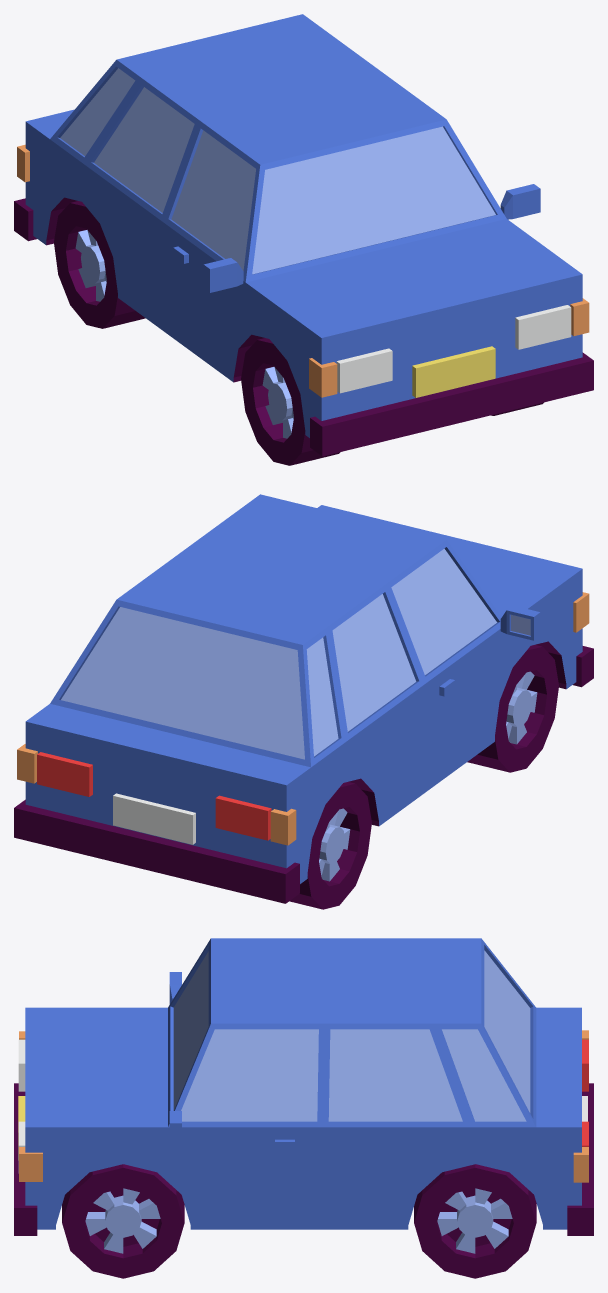
The model's file is car6.glb.
3 renders of one model, top to bottom at view 1: azimuth 30°, elevation 25°; view 2: azimuth 150°, elevation 25°; view 3: azimuth 270°, elevation 25°, orthographic. The views are drawn at different scales.
Visible parts, largest first — view 1: car.014; view 2: car.014; view 3: car.014.
Part boxes in pixels (x1,y1,x2,y2): car.014: (14, 14, 593, 465); car.014: (14, 494, 593, 909); car.014: (14, 938, 593, 1278).
Size of the model in its own units: 1.35 by 0.9974 by 2.19.
1 material, 1 textured.
